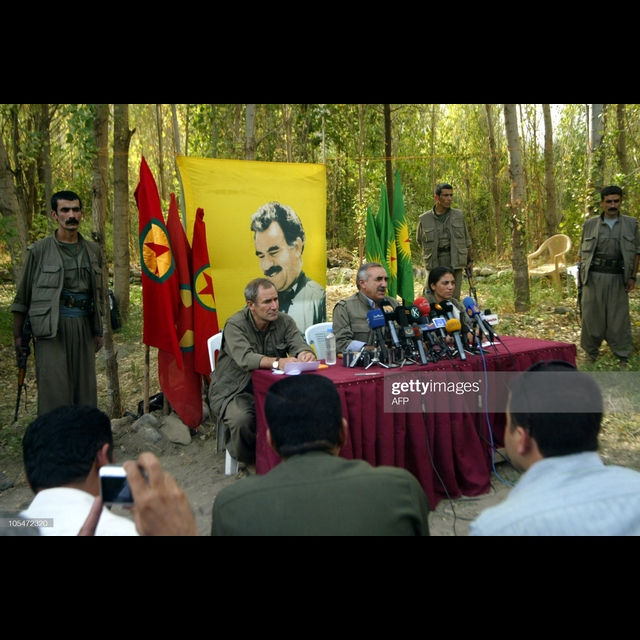AK47: (12, 317, 32, 422)
PKK: (134, 149, 173, 358), (192, 201, 224, 376), (171, 282, 193, 356)
